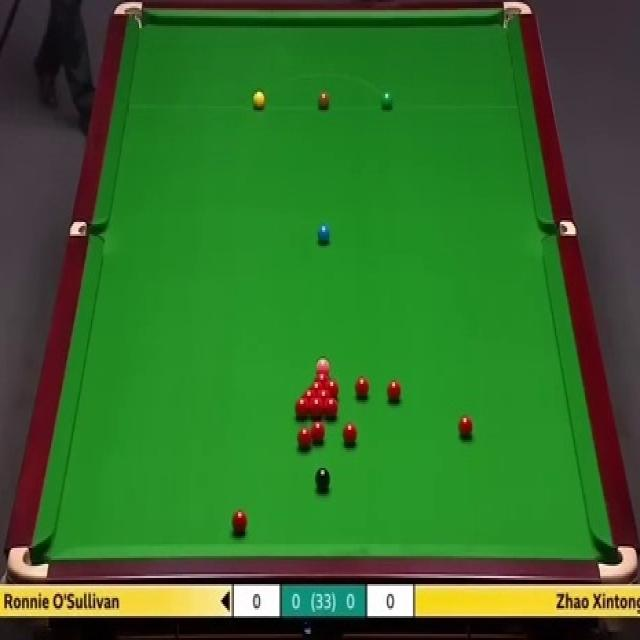black-ball: (314, 466, 331, 495)
blue-ball: (316, 222, 331, 246)
brown-ball: (317, 91, 331, 111)
green-ball: (382, 90, 396, 112)
pink-ball: (315, 356, 331, 374)
red-ball: (384, 378, 402, 406), (296, 426, 312, 454), (342, 421, 358, 449), (231, 509, 247, 536), (322, 396, 339, 419), (308, 394, 324, 418), (354, 375, 369, 400), (294, 396, 310, 419), (458, 414, 473, 438), (310, 421, 325, 444), (325, 379, 339, 396), (314, 371, 331, 382), (303, 388, 318, 399), (317, 388, 331, 399), (310, 380, 325, 390)
yellow-ball: (252, 90, 266, 110)
